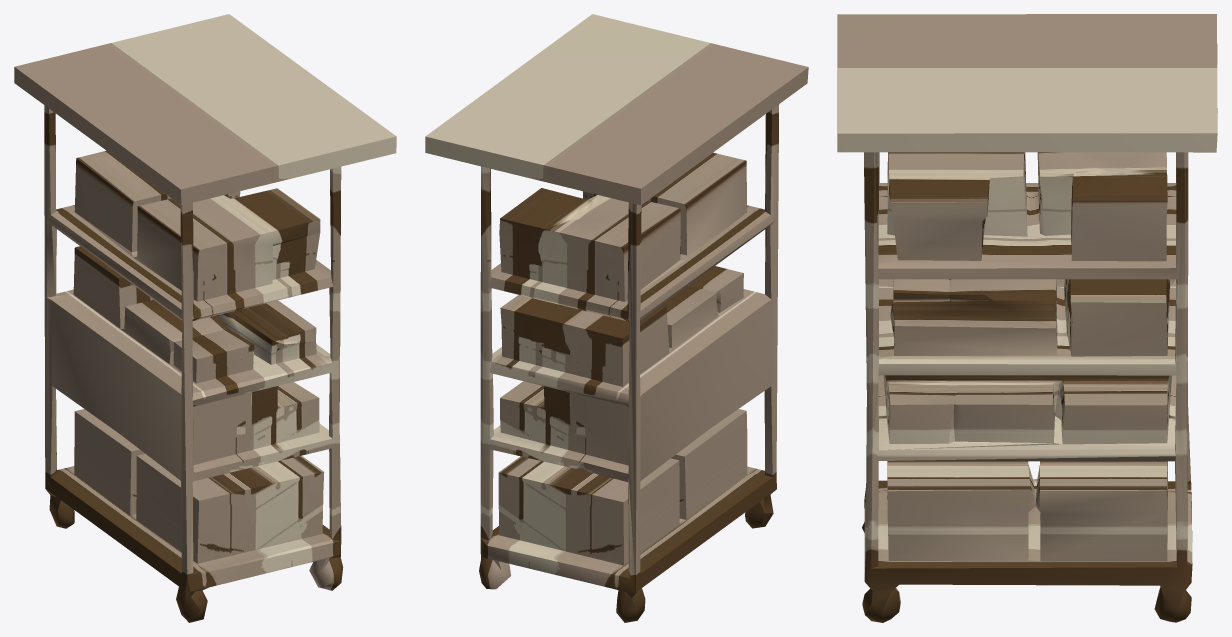
3 renders of one model, left to right at view 1: azimuth 30°, elevation 25°; view 2: azimuth 150°, elevation 25°; view 3: azimuth 270°, elevation 25°, orthographic. The views are drawn at different scales.
Visible parts, largest first — view 1: Decor_kiosk_cart_a; view 2: Decor_kiosk_cart_a; view 3: Decor_kiosk_cart_a.
Part boxes in pixels (x1,y1,x2,y2): Decor_kiosk_cart_a: (14, 14, 396, 622); Decor_kiosk_cart_a: (425, 14, 808, 622); Decor_kiosk_cart_a: (837, 14, 1217, 622).
Bounding box in the file's own units: 1.14 × 2.29 × 1.53.
1 material, 1 textured.
